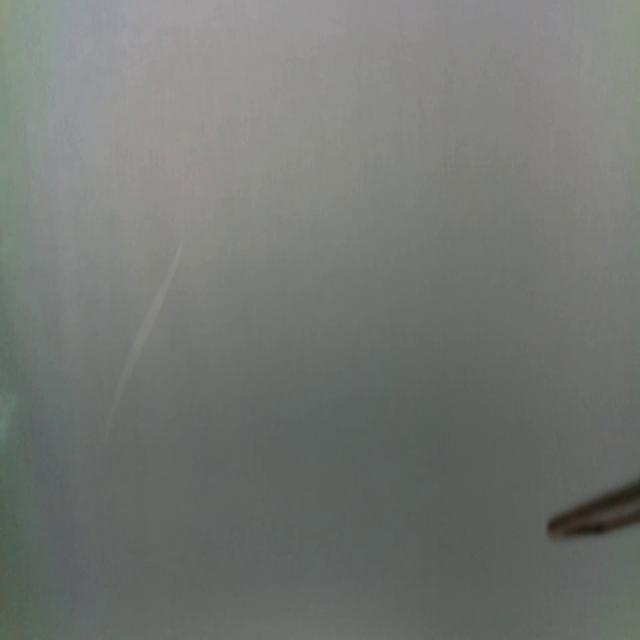crease: (103, 237, 184, 444)
